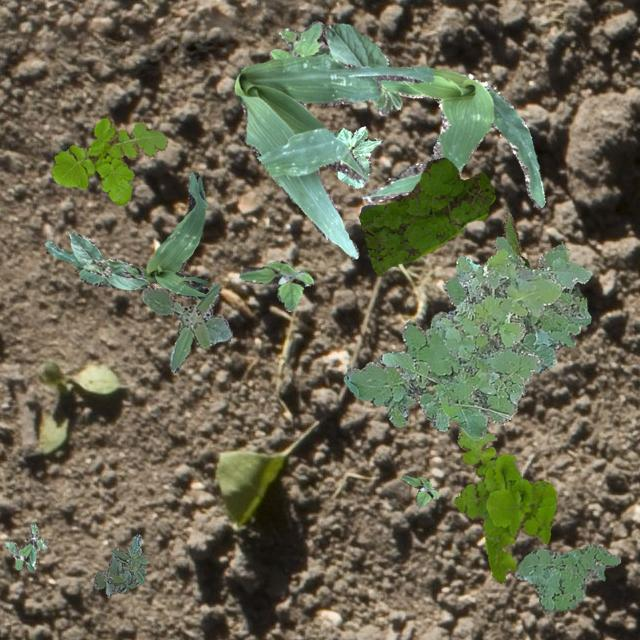crop: (232, 55, 432, 258), (359, 68, 545, 208), (45, 170, 212, 298), (322, 22, 402, 114), (68, 230, 148, 288), (332, 126, 382, 188), (502, 210, 528, 266)
weed: (342, 235, 590, 430), (378, 248, 590, 440), (358, 156, 494, 274), (452, 428, 554, 582), (50, 116, 166, 205), (142, 282, 232, 372), (514, 542, 620, 614), (238, 260, 312, 310), (92, 534, 146, 594), (268, 21, 332, 58), (4, 522, 46, 570), (400, 472, 438, 507)
